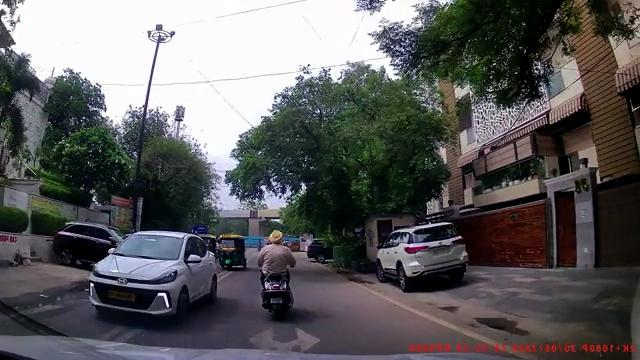motorcycle_with_helmet: (256, 228, 297, 322)
